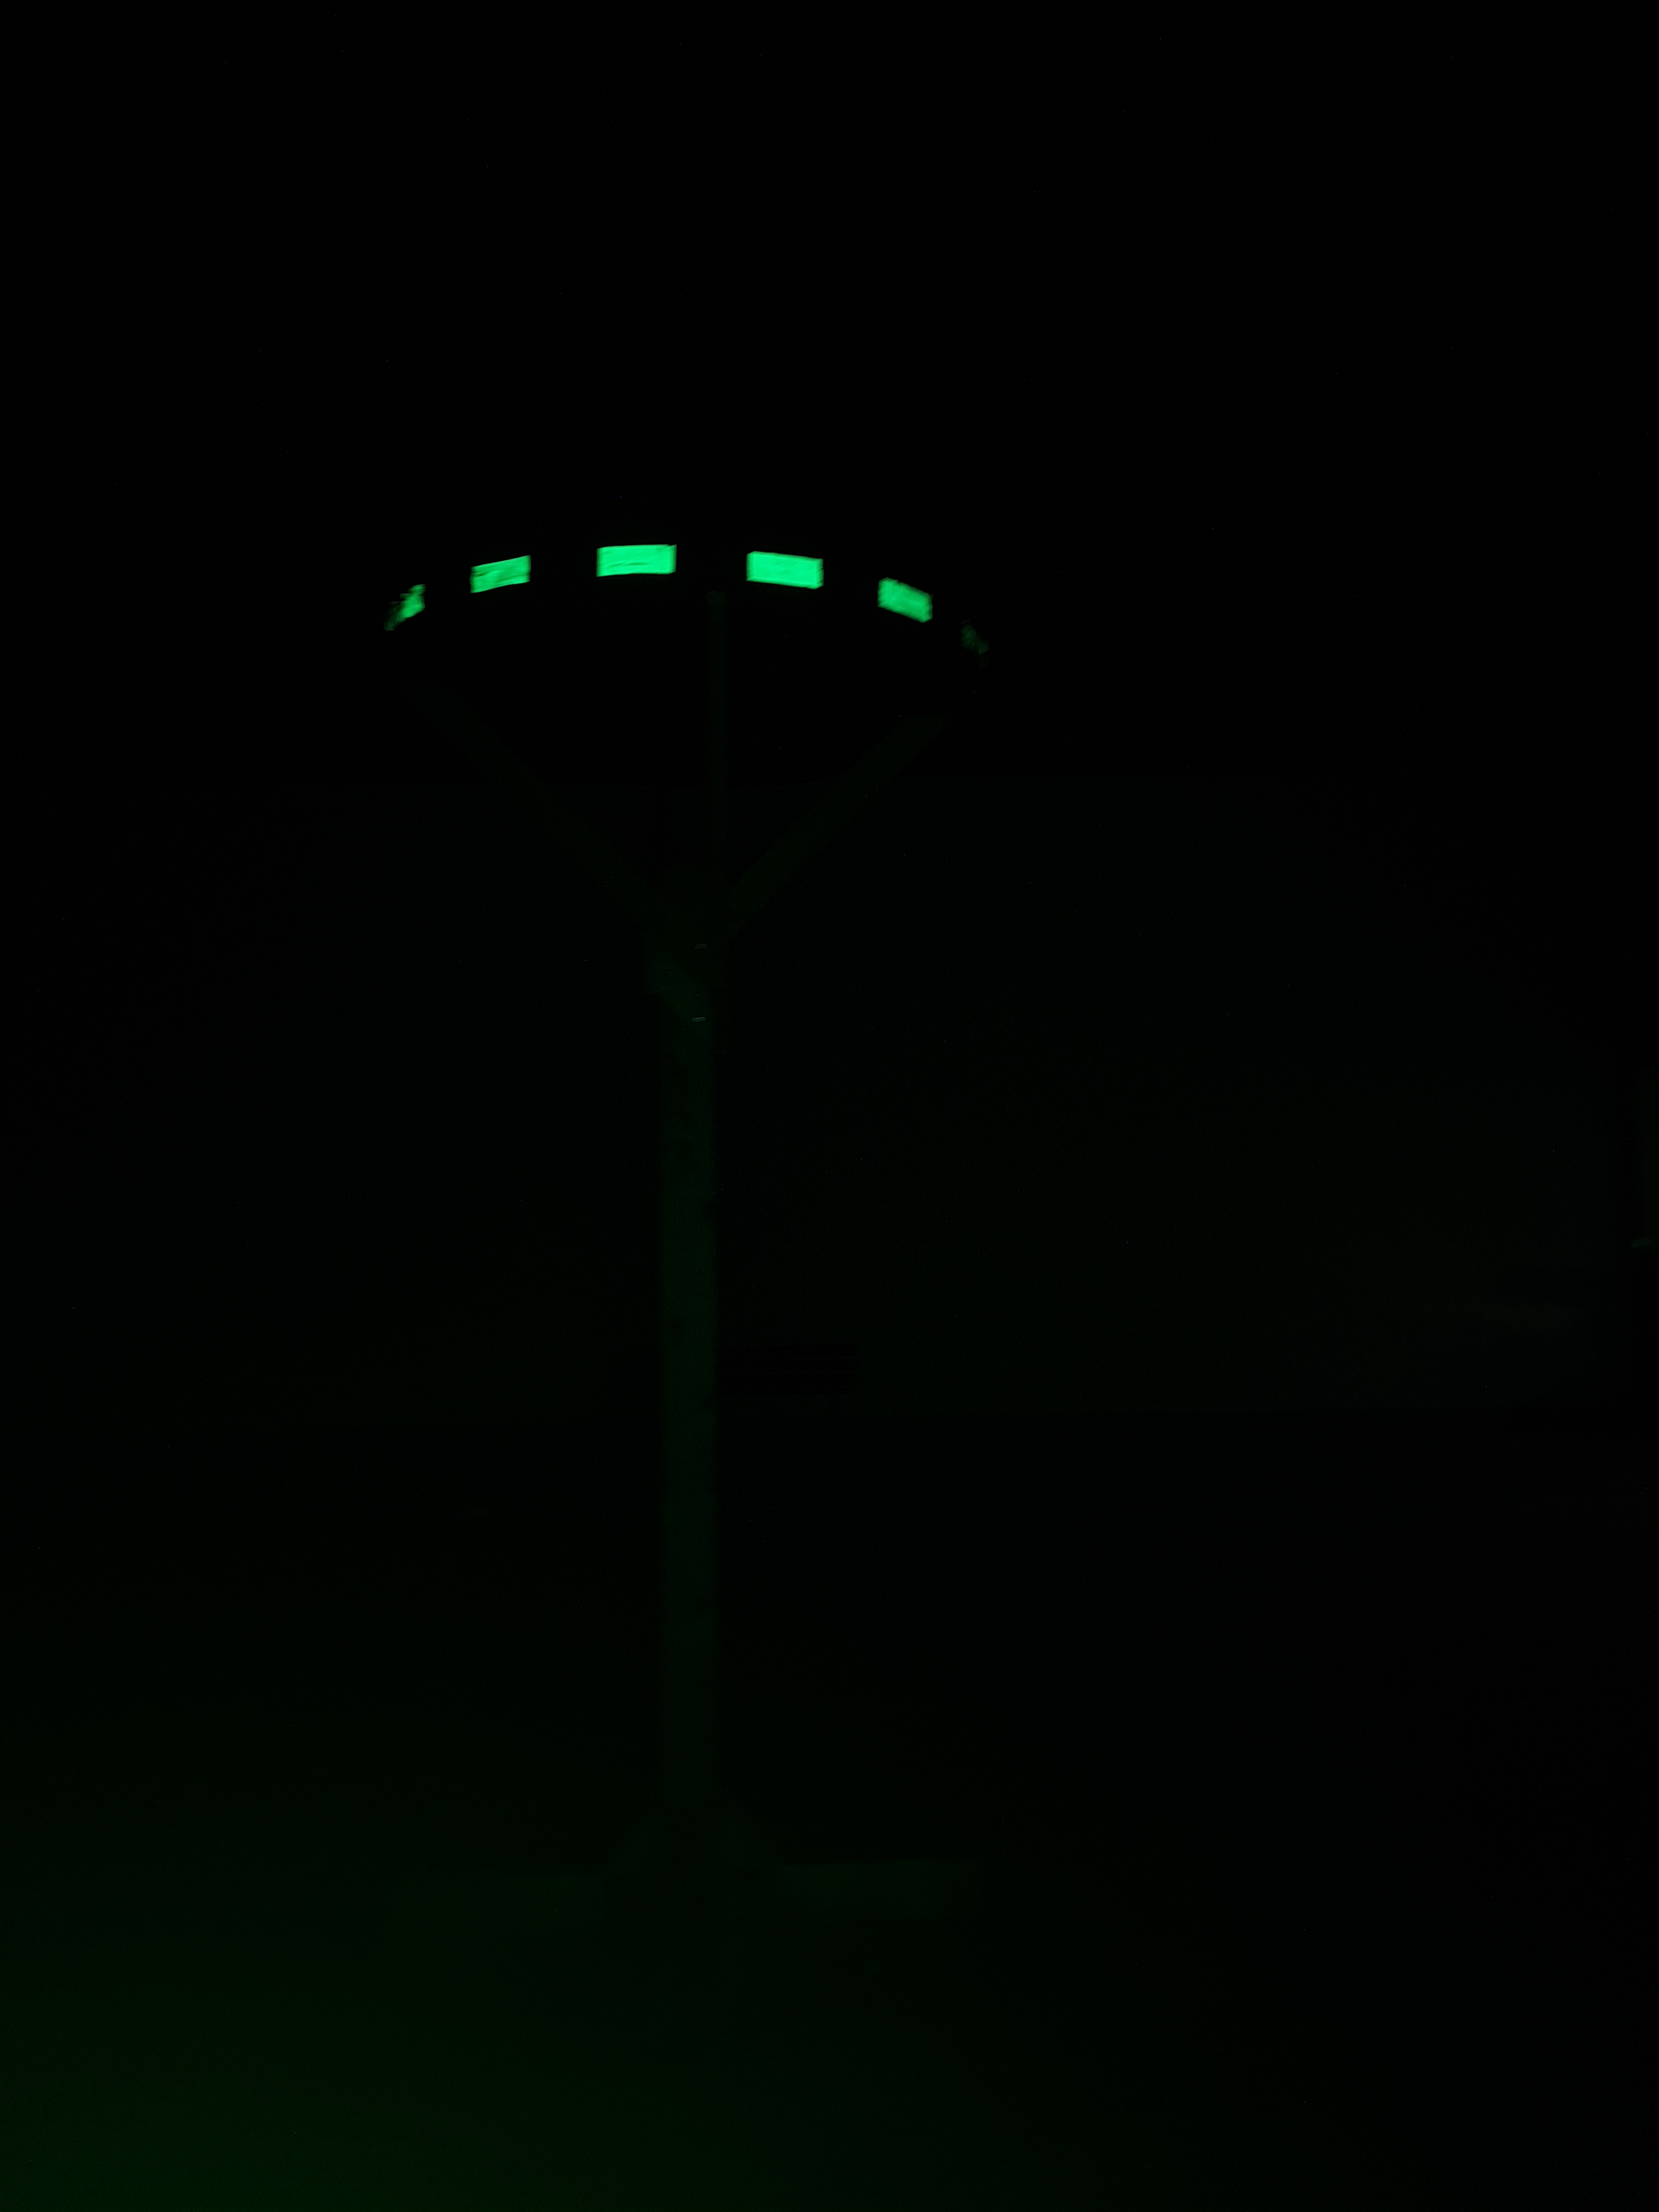hoop: (383, 542, 938, 631)
